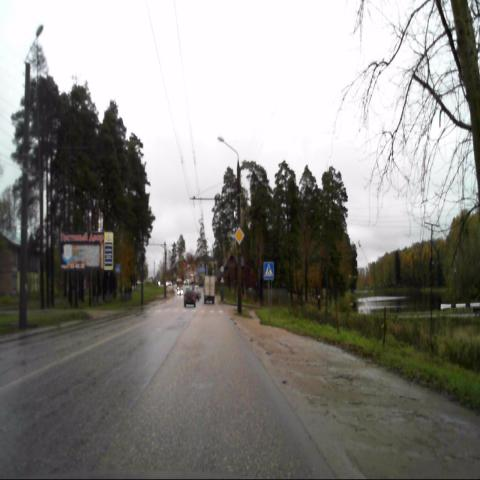2_1: (234, 225, 244, 244)
5_19_1: (263, 261, 274, 280)
